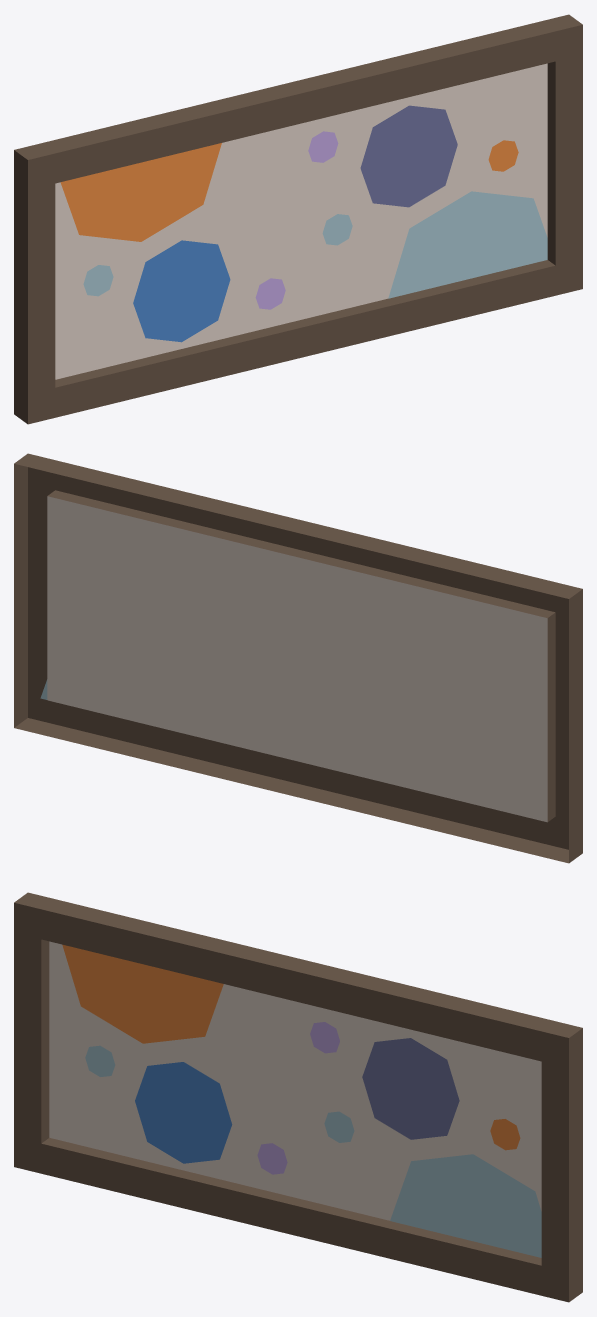
File: Picture_8.fbx
3 views of the same model, one above another, from view 1: azimuth 30°, elevation 25°; view 2: azimuth 150°, elevation 25°; view 3: azimuth 330°, elevation 25° (orthographic).
Visible parts, largest first — view 1: Picture_8; view 2: Picture_8; view 3: Picture_8.
Part boxes in pixels (x1,y1,x2,y2): Picture_8: (14,14,582,424); Picture_8: (14,453,582,863); Picture_8: (14,892,582,1302).
Size of the model in its own units: 139 by 6.04 by 63.25.
